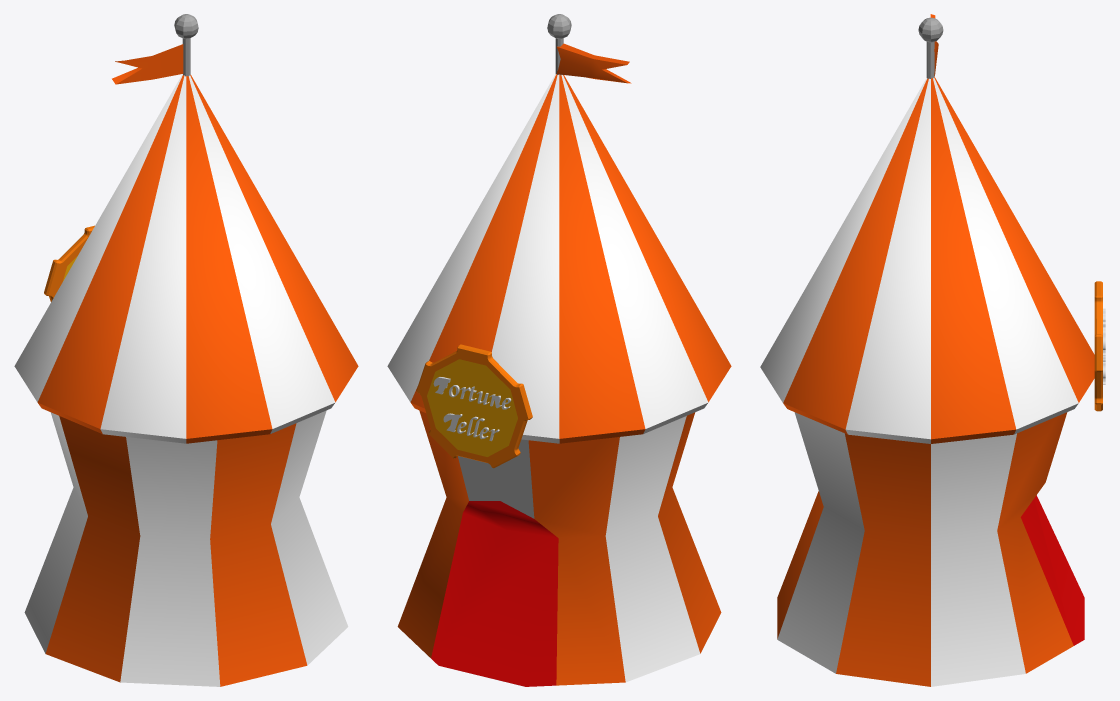
Rendered from SmallFortuneTellerTent.fbx.
The picture shows the model from 3 angles, left to right: view 1: azimuth 30°, elevation 25°; view 2: azimuth 150°, elevation 25°; view 3: azimuth 270°, elevation 25°; orthographic projection.
Visible parts, largest first — view 1: CircusTentTop, CircusTentBody, Flag, FortuneTellerSign; view 2: CircusTentTop, CircusTentBody, FortuneTellerSign, Flag, FortuneTellerText; view 3: CircusTentTop, CircusTentBody, FortuneTellerSign.
Part boxes in pixels (x1,y1,x2,y2): CircusTentTop: [14, 74, 358, 443]; CircusTentBody: [24, 410, 348, 686]; Flag: [112, 44, 183, 84]; FortuneTellerSign: [44, 225, 94, 301]; CircusTentTop: [387, 74, 731, 443]; CircusTentBody: [397, 410, 721, 686]; FortuneTellerSign: [416, 344, 532, 468]; Flag: [556, 43, 631, 83]; FortuneTellerText: [433, 377, 511, 441]; CircusTentTop: [760, 77, 1094, 443]; CircusTentBody: [777, 412, 1084, 686]; FortuneTellerSign: [1094, 281, 1102, 411].
Bounding box in the file's own units: 3.86 × 7.48 × 3.9.
